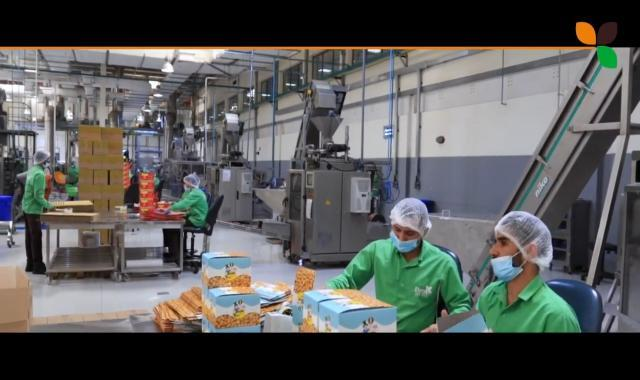Hairnet: (497, 211, 553, 268), (391, 197, 431, 236), (181, 172, 201, 189), (32, 149, 50, 164)
Mask: (489, 260, 539, 287), (388, 230, 425, 253), (493, 233, 509, 234)
No_Apron: (373, 240, 438, 331), (484, 279, 549, 333)
